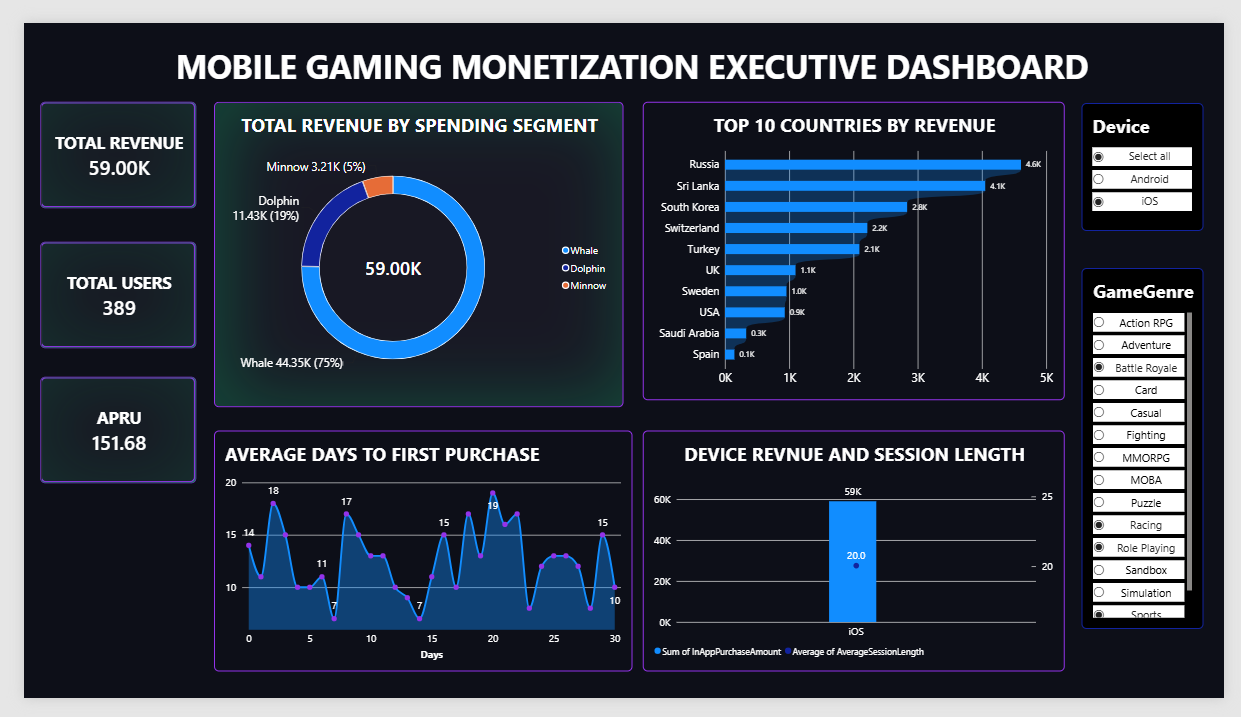

The dashboard page shown, as its layout file describes it:
{"tool":"powerbi","page":{"name":"Page 1","canvas":[1920,1080],"ordinal":0},"visuals":[{"type":"cardVisual","fields":{"Data":["Sum(cleaned_mobile_game_data.InAppPurchaseAmount)"]},"box":[25.3,126.7,249.7,170.1],"z":0},{"type":"donutChart","title":"TOTAL REVENUE BY SPENDING SEGMENT","fields":{"Category":["cleaned_mobile_game_data.SpendingSegment"],"Y":["Sum(cleaned_mobile_game_data.InAppPurchaseAmount)"]},"box":[304,126.7,655.1,488.6],"z":1000},{"type":"barChart","title":"TOP 10 COUNTRIES BY REVENUE","fields":{"Category":["cleaned_mobile_game_data.Country"],"Y":["Sum(cleaned_mobile_game_data.InAppPurchaseAmount)"]},"box":[989.9,126.7,675,477.8],"z":2000},{"type":"lineChart","title":"AVERAGE DAYS TO FIRST PURCHASE","fields":{"Category":["cleaned_mobile_game_data.FirstPurchaseDaysAfterInstall"],"Y":["CountNonNull(cleaned_mobile_game_data.UserID)"]},"box":[304,651.5,669.6,385.5],"z":3000},{"type":"lineStackedColumnComboChart","title":"DEVICE REVNUE AND SESSION LENGTH","fields":{"Category":["cleaned_mobile_game_data.Device"],"Y":["Sum(cleaned_mobile_game_data.InAppPurchaseAmount)"],"Y2":["Avg(cleaned_mobile_game_data.AverageSessionLength)"]},"box":[989.9,651.5,675,385.5],"z":4000},{"type":"listSlicer","fields":{"Values":["cleaned_mobile_game_data.Device"]},"box":[1692,128.5,195.4,204.5],"z":5000},{"type":"cardVisual","fields":{"Data":["Count(cleaned_mobile_game_data.UserID)"]},"box":[25.3,349.3,249.7,170.1],"z":6000},{"type":"cardVisual","fields":{"Data":["cleaned_mobile_game_data.ARPU"]},"box":[25.3,566.4,249.7,170.1],"z":7000},{"type":"textbox","title":"MOBILE GAMING MONETIZATION EXECUTIVE DASHBOARD","box":[25.6,34.2,1893.6,94],"z":8000},{"type":"listSlicer","fields":{"Values":["cleaned_mobile_game_data.GameGenre"]},"box":[1692,392.7,195.4,577.3],"z":9000}]}

Visuals, with their boxes in screenshot pixels (x1, y1, x2, y2), scaled from the page's 1920x1080 canvas onto the 1241x717 screenshot:
cardVisual - Sum(cleaned_mobile_game_data.InAppPurchaseAmount): bbox=(16, 84, 178, 197)
"TOTAL REVENUE BY SPENDING SEGMENT" donutChart: bbox=(196, 84, 620, 408)
"TOP 10 COUNTRIES BY REVENUE" barChart: bbox=(640, 84, 1076, 401)
"AVERAGE DAYS TO FIRST PURCHASE" lineChart: bbox=(196, 433, 629, 688)
"DEVICE REVNUE AND SESSION LENGTH" lineStackedColumnComboChart: bbox=(640, 433, 1076, 688)
listSlicer - cleaned_mobile_game_data.Device: bbox=(1094, 85, 1220, 221)
cardVisual - Count(cleaned_mobile_game_data.UserID): bbox=(16, 232, 178, 345)
cardVisual - cleaned_mobile_game_data.ARPU: bbox=(16, 376, 178, 489)
"MOBILE GAMING MONETIZATION EXECUTIVE DASHBOARD" textbox: bbox=(17, 23, 1240, 85)
listSlicer - cleaned_mobile_game_data.GameGenre: bbox=(1094, 261, 1220, 644)
